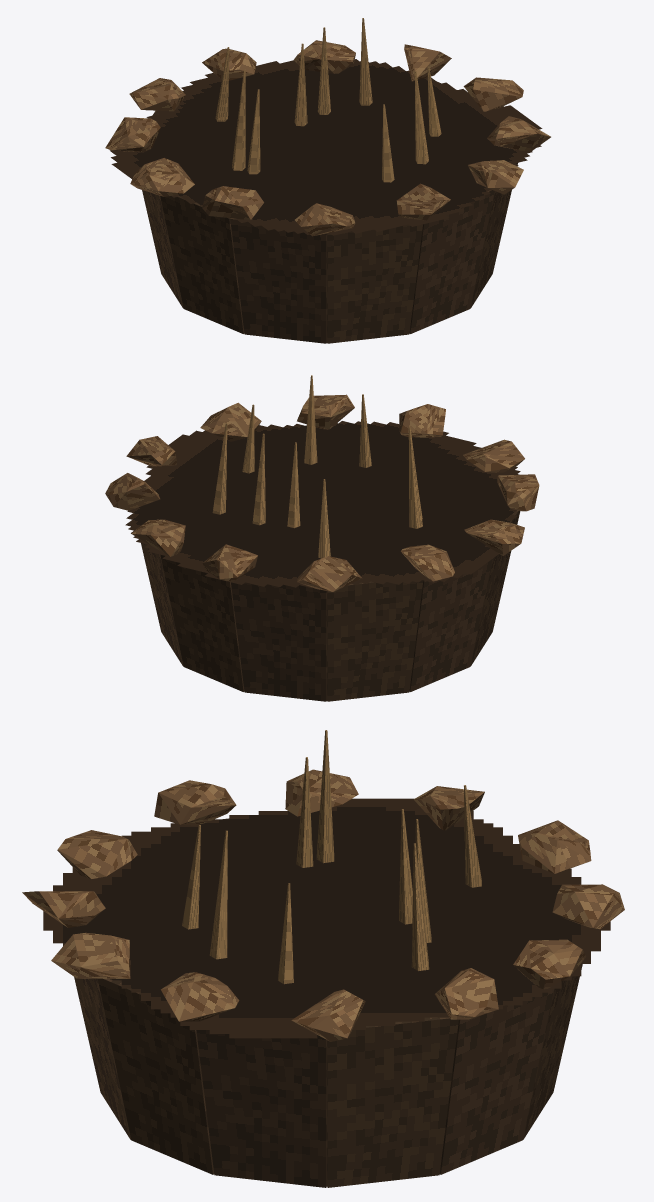
File: tr_spike_pit.glb
3 renders of one model, top to bottom at view 1: azimuth 30°, elevation 25°; view 2: azimuth 150°, elevation 25°; view 3: azimuth 270°, elevation 25°, orthographic. The views are drawn at different scales.
Visible parts, largest first — view 1: block_hole, block_pit wall (×6), block_rim (×12), block_stake (×9); view 2: block_hole, block_pit wall (×6), block_rim (×12), block_stake (×8); view 3: block_hole, block_pit wall (×6), block_rim (×12), block_stake (×9).
Part boxes in pixels (bbox=[...]): block_hole: bbox=[110, 59, 542, 235]; block_pit wall (×6): bbox=[142, 163, 517, 343]; block_rim (×12): bbox=[105, 40, 550, 236]; block_stake (×9): bbox=[215, 18, 441, 182]; block_hole: bbox=[125, 421, 520, 587]; block_pit wall (×6): bbox=[141, 510, 520, 701]; block_rim (×12): bbox=[105, 394, 539, 591]; block_stake (×8): bbox=[212, 375, 422, 558]; block_hole: bbox=[43, 798, 610, 1038]; block_pit wall (×6): bbox=[74, 964, 582, 1187]; block_rim (×12): bbox=[22, 769, 624, 1041]; block_stake (×9): bbox=[182, 730, 481, 984].
Bounding box in the file's own units: 1 × 0.5408 × 1.
Materials: 2 (2 with a texture image).
